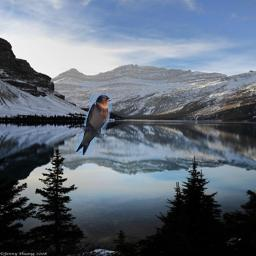Swallow: (76, 94, 112, 155)
